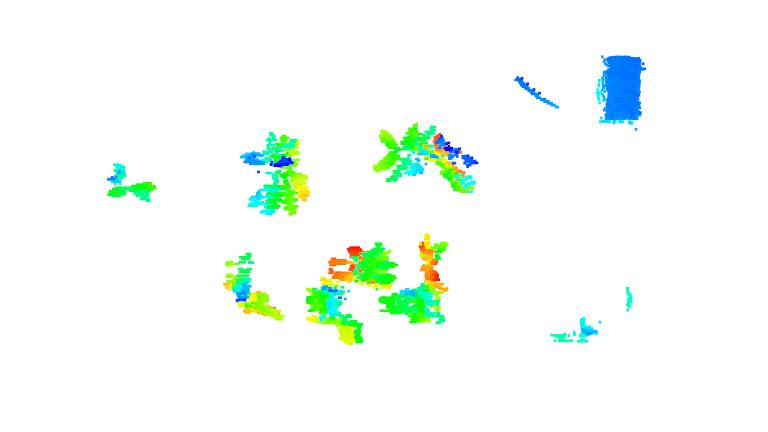chickpea: (373, 119, 481, 193), (378, 230, 454, 334), (239, 131, 316, 218), (301, 278, 369, 351), (222, 250, 285, 325), (321, 240, 404, 292), (100, 156, 163, 202)
